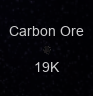Carbon: (8, 25, 83, 74)
